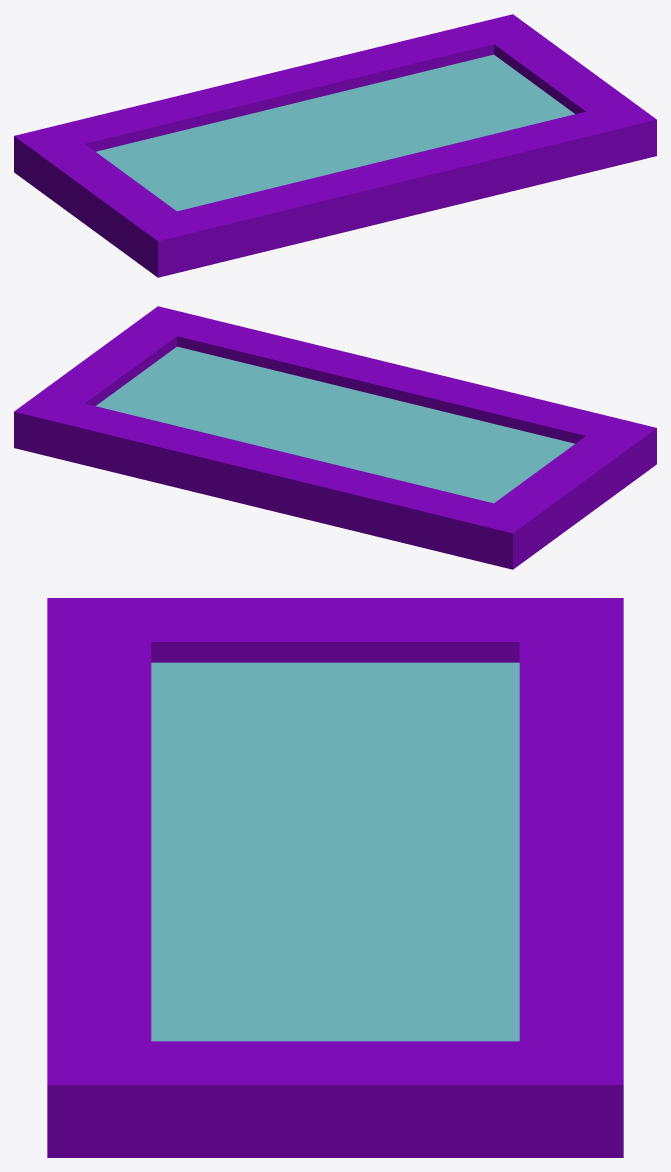
Rendered from FactoryPlat2.fbx.
3 views of the same model, one above another, from view 1: azimuth 30°, elevation 25°; view 2: azimuth 150°, elevation 25°; view 3: azimuth 270°, elevation 25° (orthographic). The views are drawn at different scales.
Parts seen in each view (by area): view 1: DangerPlatforms; view 2: DangerPlatforms; view 3: DangerPlatforms.
Part boxes in pixels (bbox=[...]): DangerPlatforms: bbox=[14, 14, 656, 277]; DangerPlatforms: bbox=[14, 306, 656, 569]; DangerPlatforms: bbox=[47, 598, 623, 1157].
Bounding box in the file's own units: 317 × 22.09 × 158.
